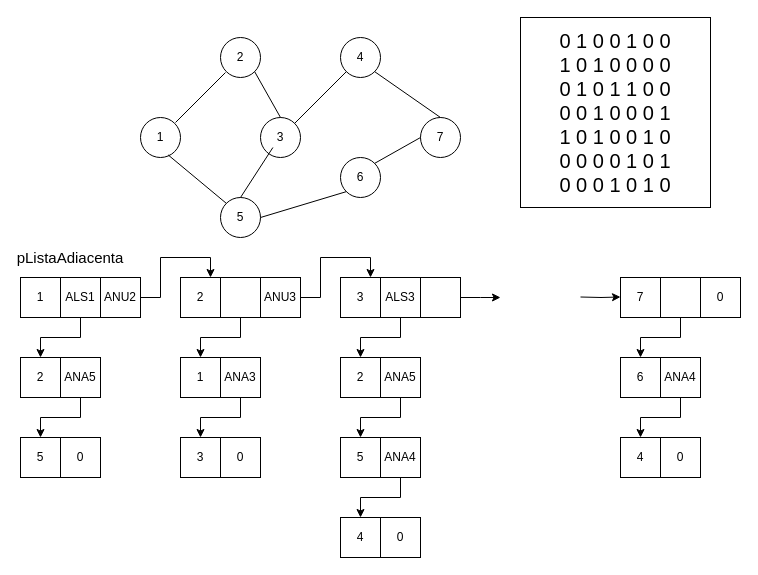
Some shapes in this 758 by 575 pixel diagram are drawn without their labels. Each missing label, with the centre of its shape:
ALS2: (240,297)
ALS7: (680,297)
ANU4: (440,297)
